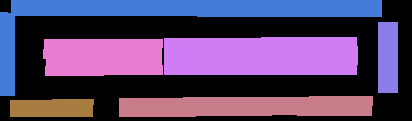parkingspot: (11, 0, 381, 16), (119, 96, 372, 116), (164, 37, 357, 56), (164, 55, 357, 74), (43, 39, 162, 58), (45, 56, 162, 75), (10, 99, 93, 116), (378, 22, 397, 92), (0, 12, 14, 95)
